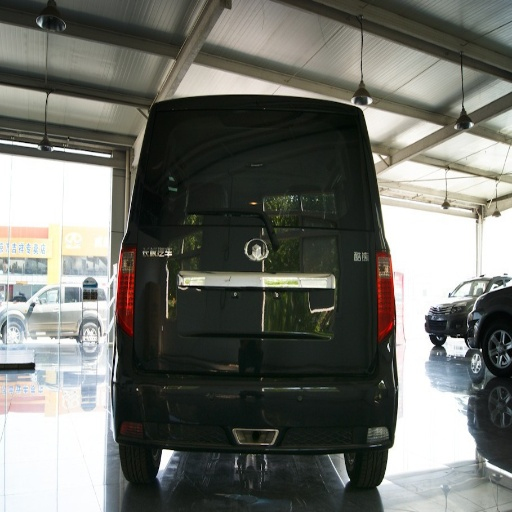back_bumper: (112, 341, 400, 453)
tailgate: (316, 319, 365, 369)
trunk: (135, 236, 376, 375)
